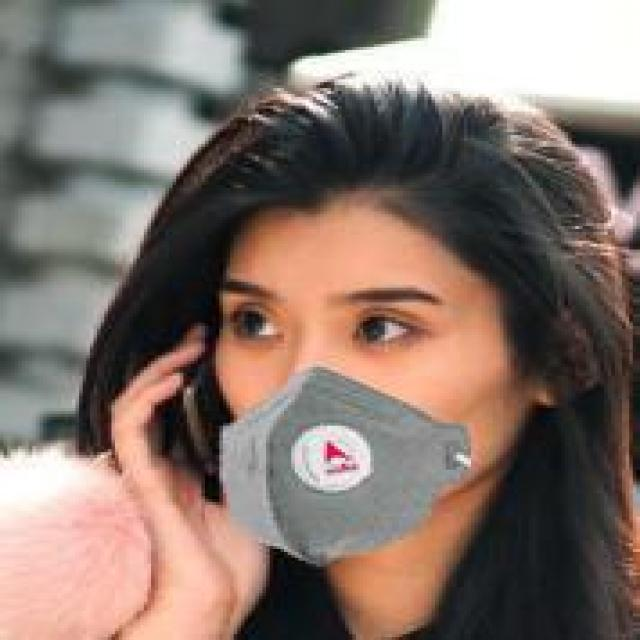mask: (122, 88, 626, 567)
